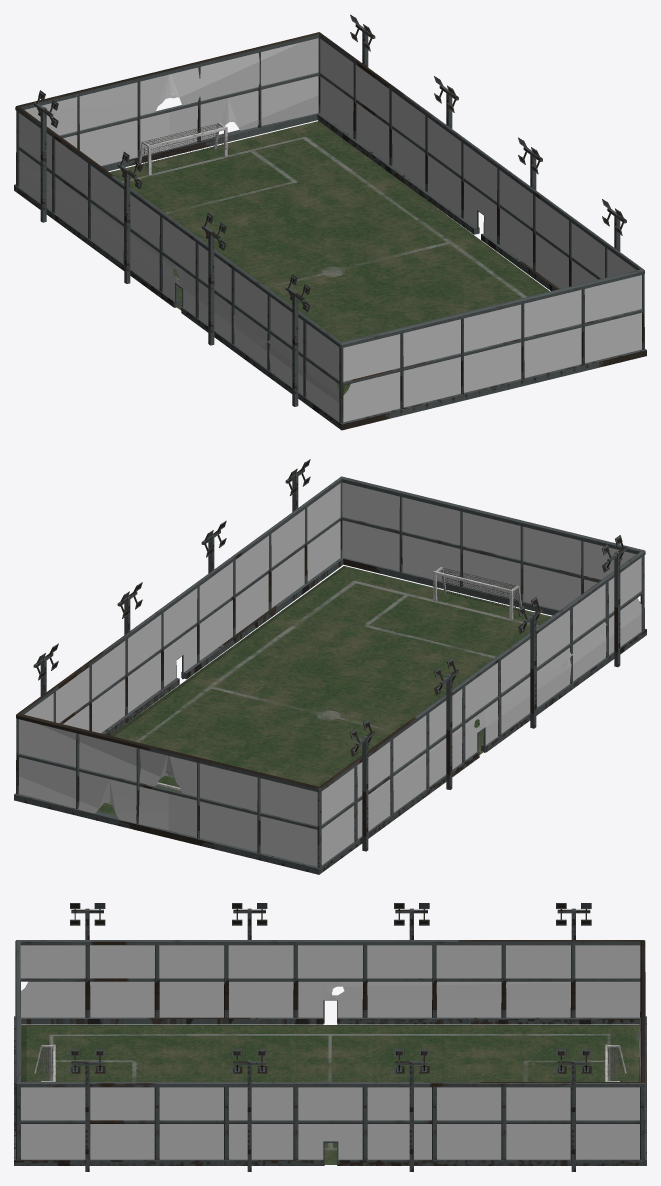
File: Football Field.fbx
The picture shows the model from 3 angles, top to bottom: view 1: azimuth 30°, elevation 25°; view 2: azimuth 150°, elevation 25°; view 3: azimuth 270°, elevation 25°; orthographic projection. The views are drawn at different scales.
Visible parts, largest first — view 1: Plane.001; view 2: Plane.001; view 3: Plane.001.
Boxes of the visible parts, <box> form: Plane.001: <box>14,14,646,430</box>; Plane.001: <box>14,459,646,874</box>; Plane.001: <box>14,903,646,1171</box>.
Size of the model in its own units: 3820 by 1381 by 6657.
